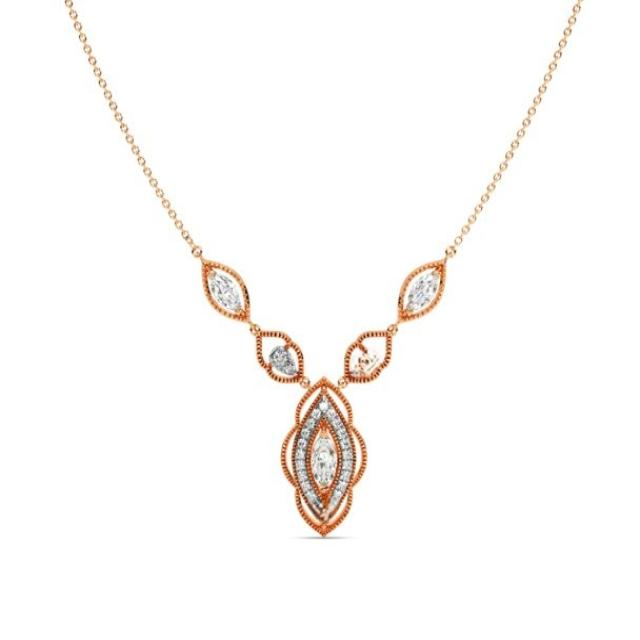missing gem: (355, 347, 382, 376)
